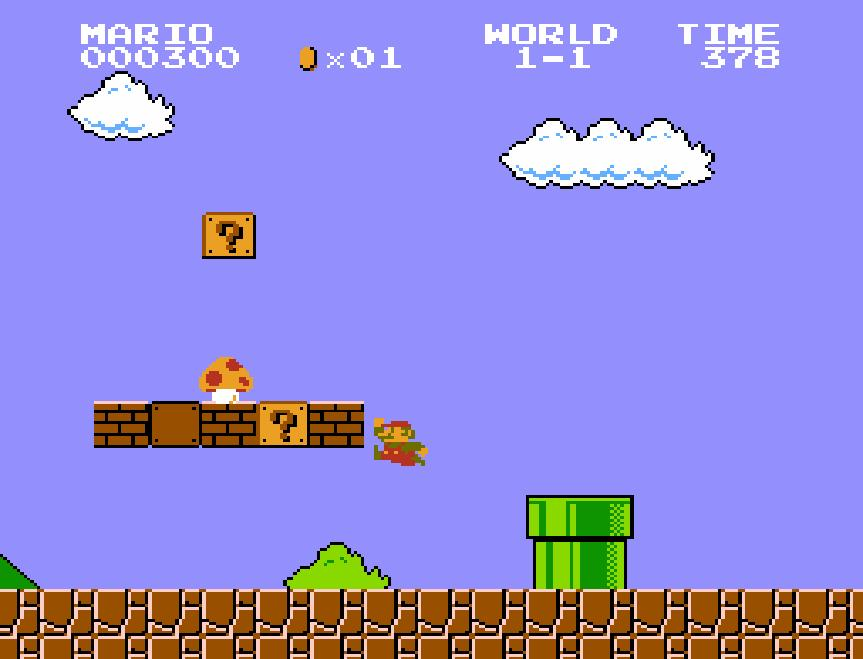little_mario: (372, 417, 430, 467)
